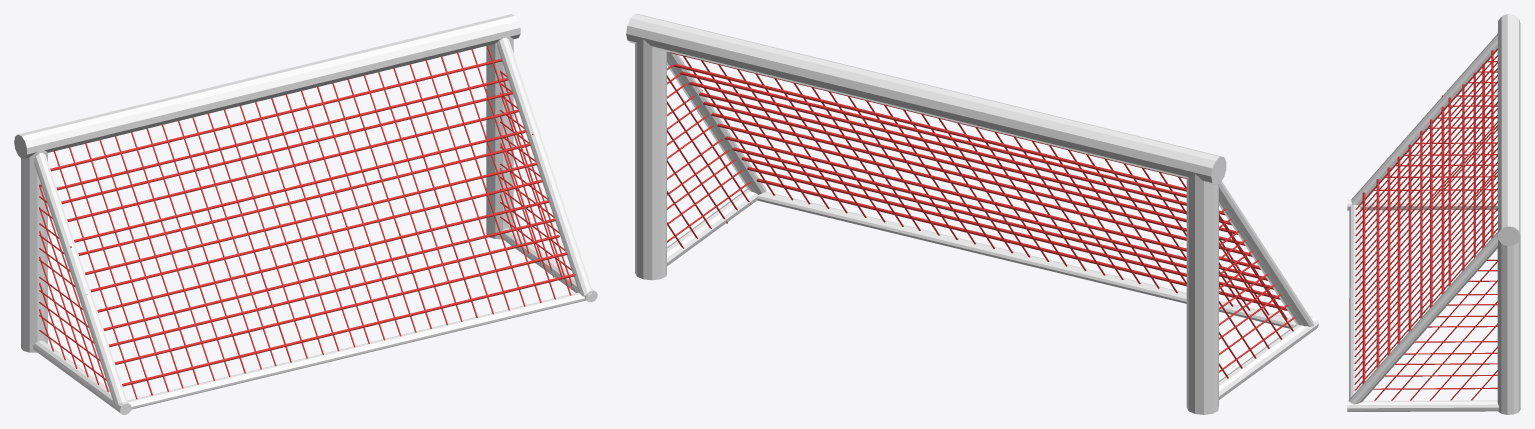
The model's file is GoalPost.fbx.
3 views of the same model, side by side, from view 1: azimuth 30°, elevation 25°; view 2: azimuth 150°, elevation 25°; view 3: azimuth 270°, elevation 25° (orthographic). The views are drawn at different scales.
Parts seen in each view (by area): view 1: Trave.001; view 2: Trave.001; view 3: Trave.001.
Boxes of the visible parts, bbox=[...] form: Trave.001: bbox=[14, 14, 597, 414]; Trave.001: bbox=[626, 14, 1318, 414]; Trave.001: bbox=[1347, 14, 1520, 414].
Size of the model in its own units: 2282 by 957 by 788.
